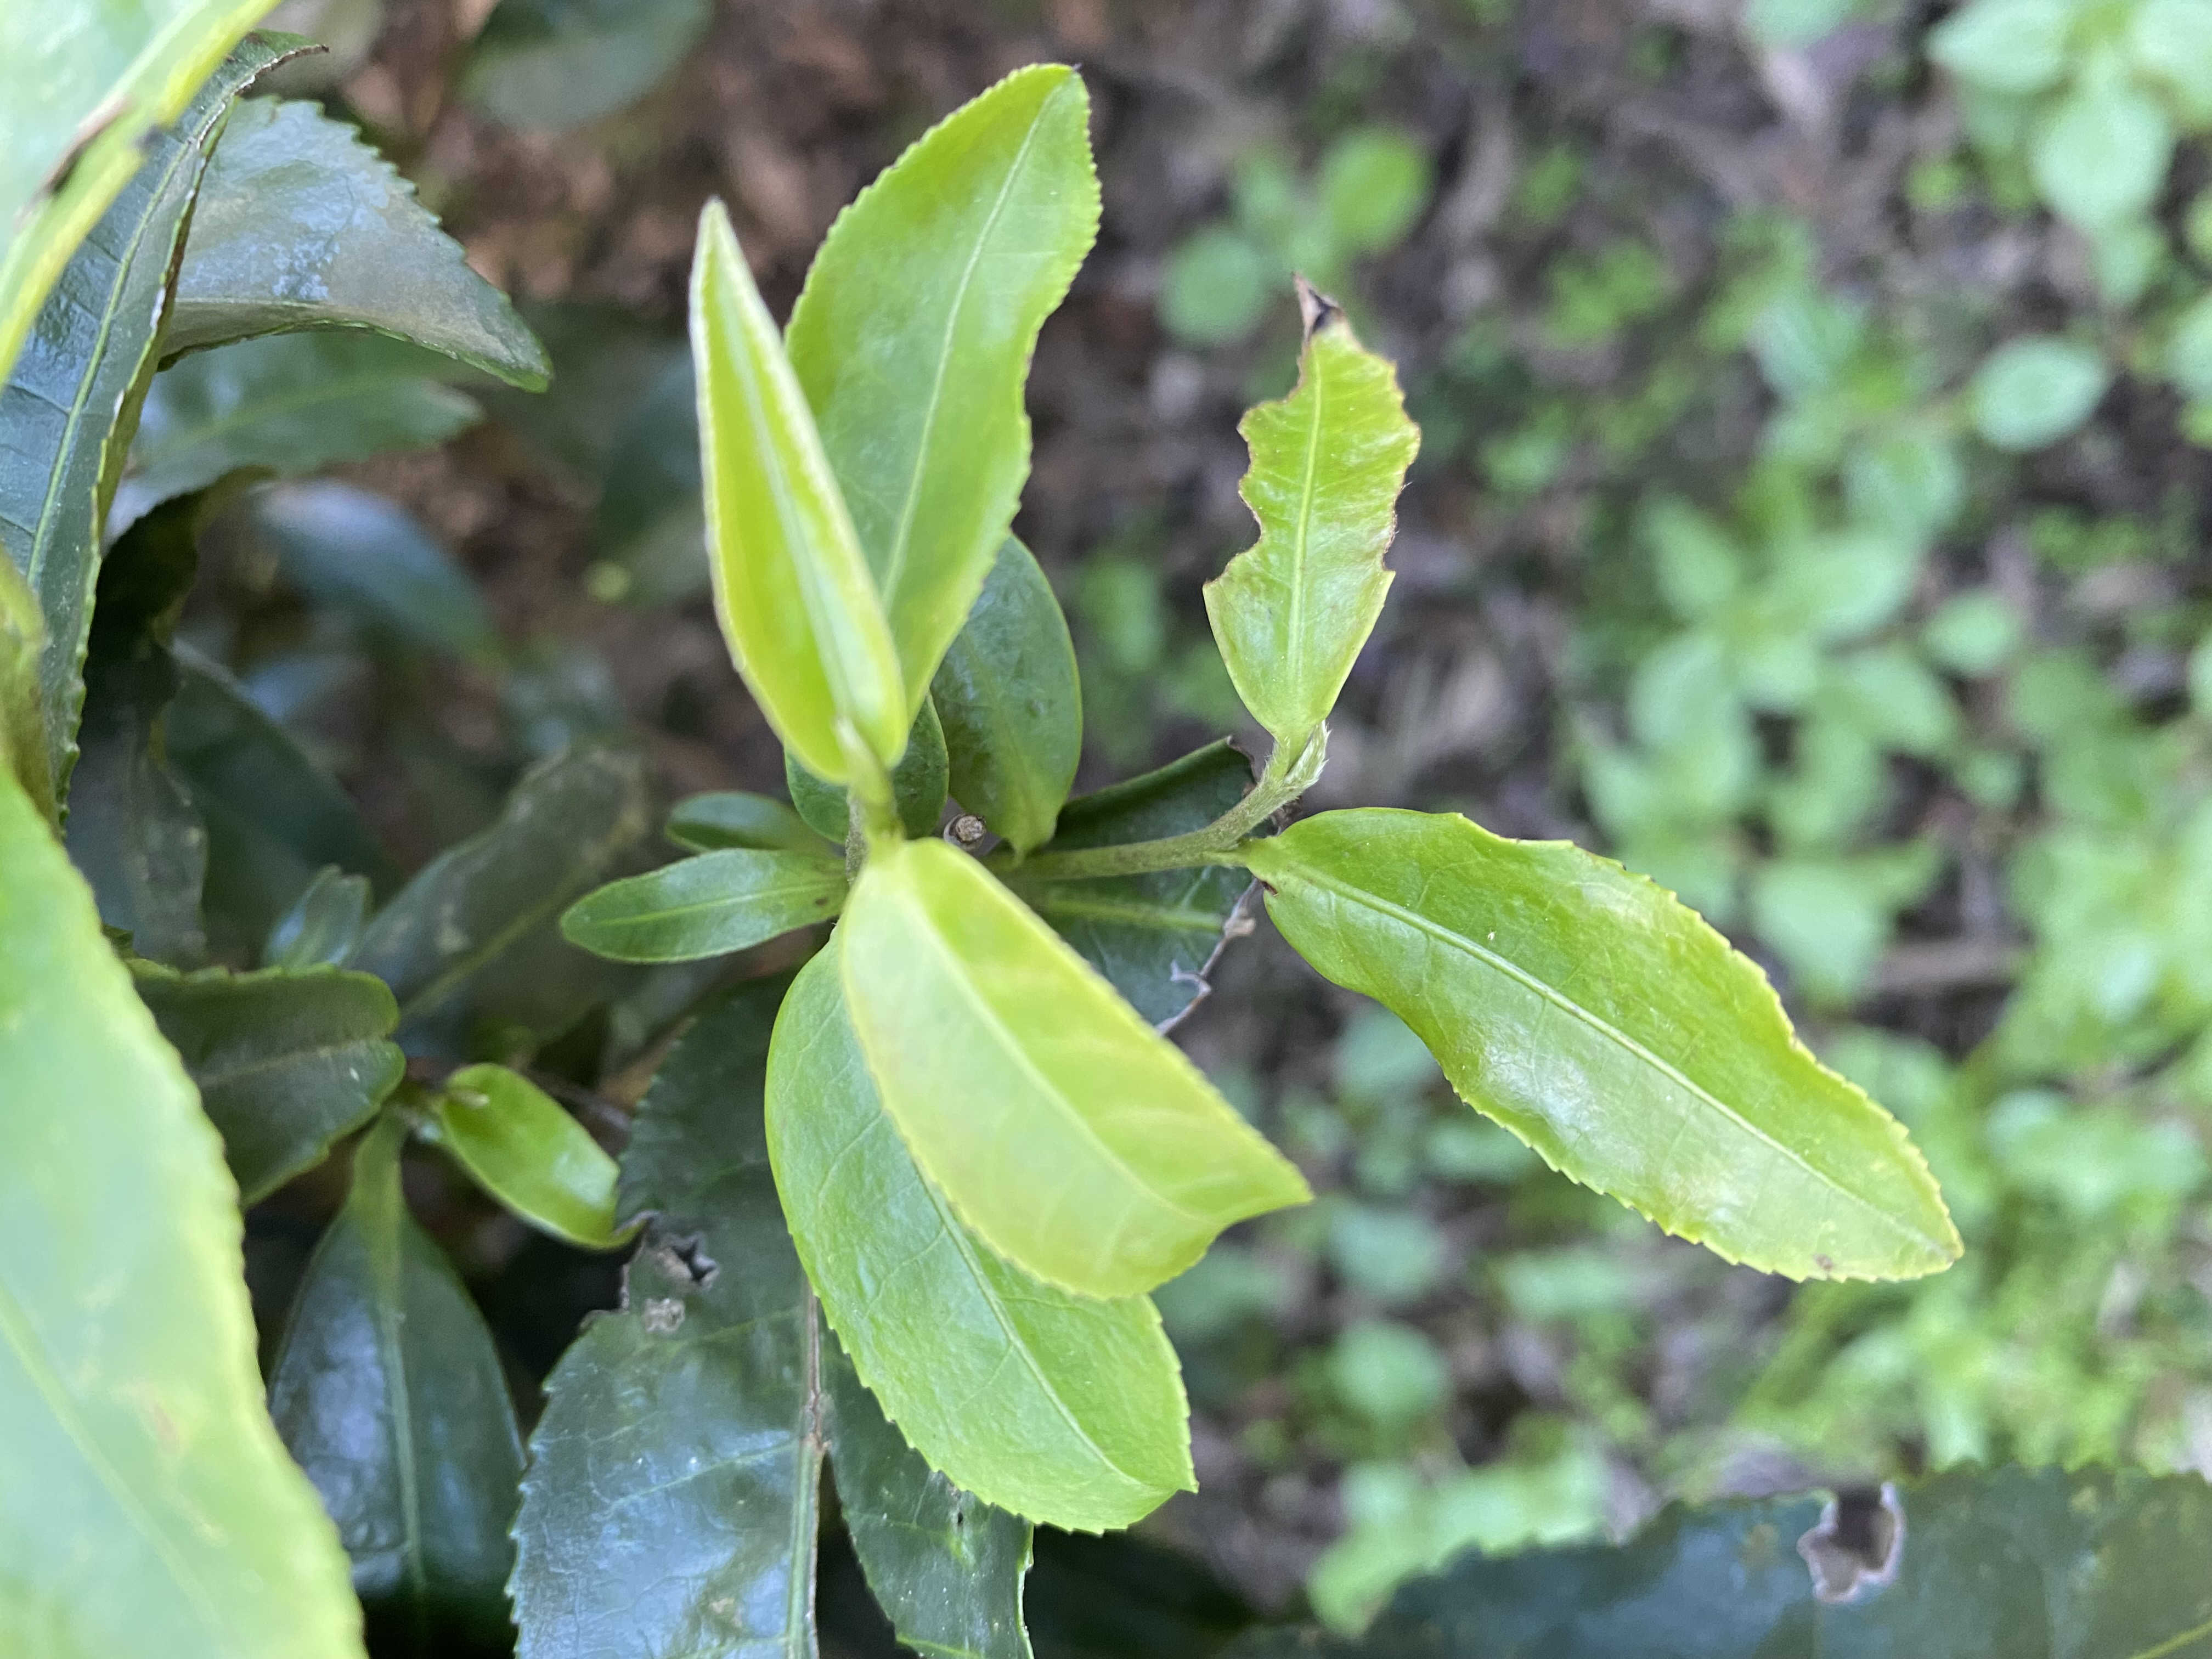chihuo_high: (1197, 275, 1428, 744)
chihuo_low: (1207, 1452, 2210, 1657)
healthy: (1263, 807, 1970, 1290), (761, 932, 1200, 1539), (840, 835, 1315, 1305), (780, 58, 1104, 725), (681, 188, 914, 789)
